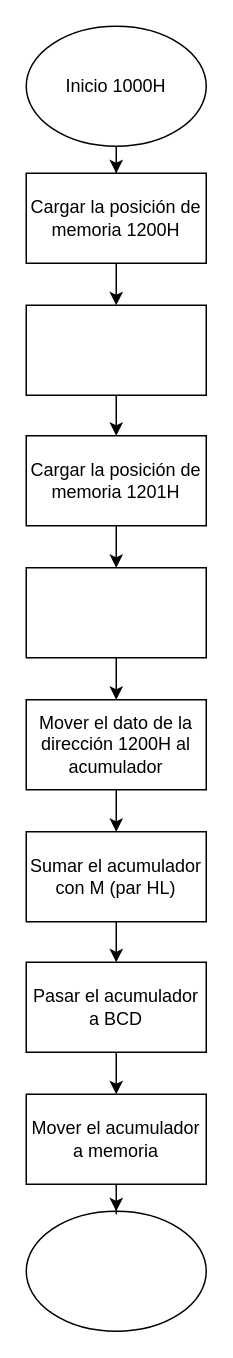
Some shapes in this 233 by 1358 pixel diagram are drawn without their labels. The centre of each missing label's shape, as x and y in pixels:
"FIN" belongs at point (115, 1270).
"Mover el primer dato a la posición 1200H" belongs at point (115, 349).
"Mover el segundo dato a la posición 1201H" belongs at point (115, 612).
